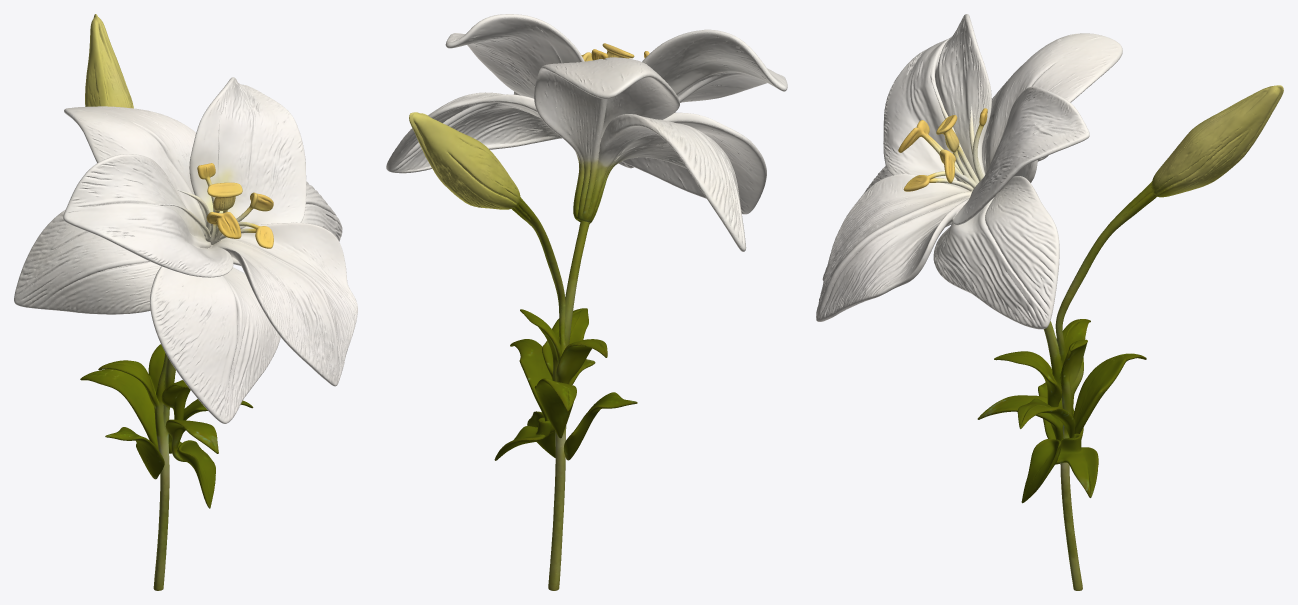
File: lily_model-v1.glb
3 views of the same model, side by side, from view 1: azimuth 30°, elevation 25°; view 2: azimuth 150°, elevation 25°; view 3: azimuth 270°, elevation 25° (orthographic). The views are drawn at different scales.
Parts seen in each view (by area): view 1: model; view 2: model; view 3: model.
Part boxes in pixels (box(x1,y1,x2,y2)): model: box(14, 14, 357, 590); model: box(386, 14, 787, 590); model: box(816, 14, 1283, 590).
Size of the model in its own units: 1.3 by 1.9 by 1.53.
Materials: 1 (1 with a texture image).
